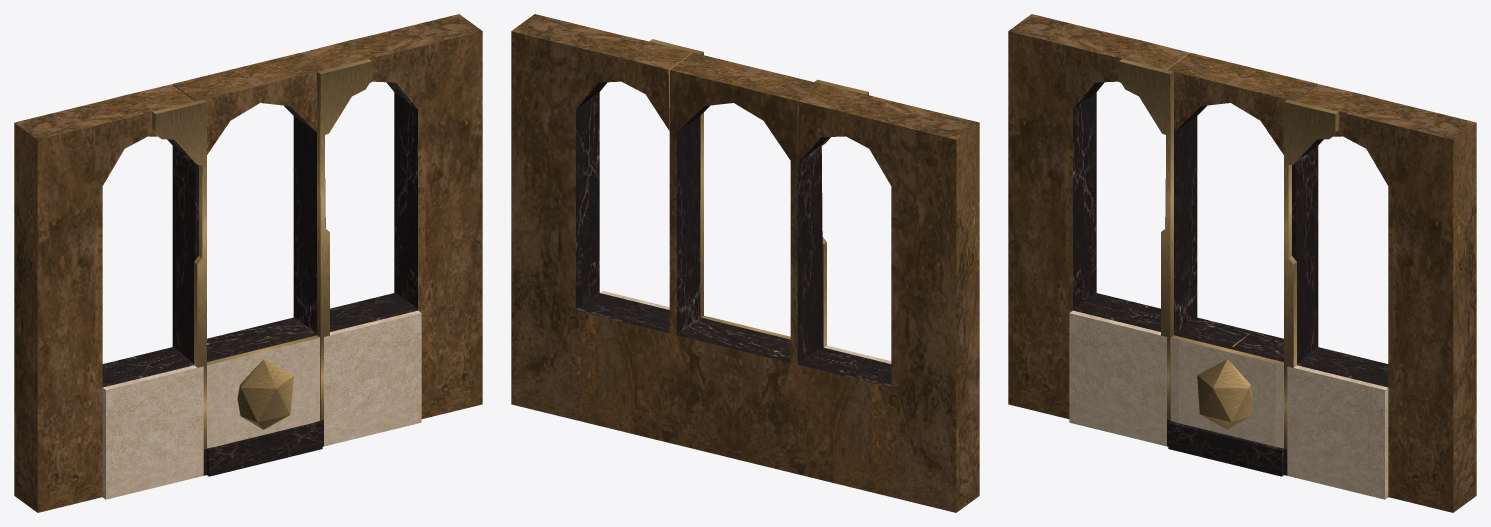
The model's file is hubwindowsnoglass.gltf.
3 views of the same model, side by side, from view 1: azimuth 30°, elevation 25°; view 2: azimuth 150°, elevation 25°; view 3: azimuth 330°, elevation 25° (orthographic).
Visible parts, largest first — view 1: Cube; view 2: Cube; view 3: Cube.
Part boxes in pixels (x1,y1,x2,y2): Cube: (14, 14, 482, 512); Cube: (511, 14, 979, 512); Cube: (1008, 14, 1476, 512).
Size of the model in its own units: 52.18 by 41.84 by 8.23.
1 material, 1 textured.
